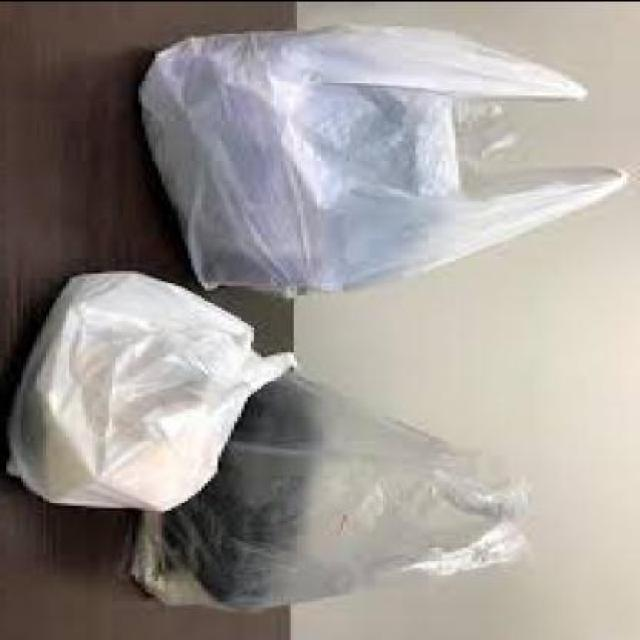PLASTIC: (141, 28, 626, 294), (132, 372, 529, 607), (9, 272, 294, 509)
